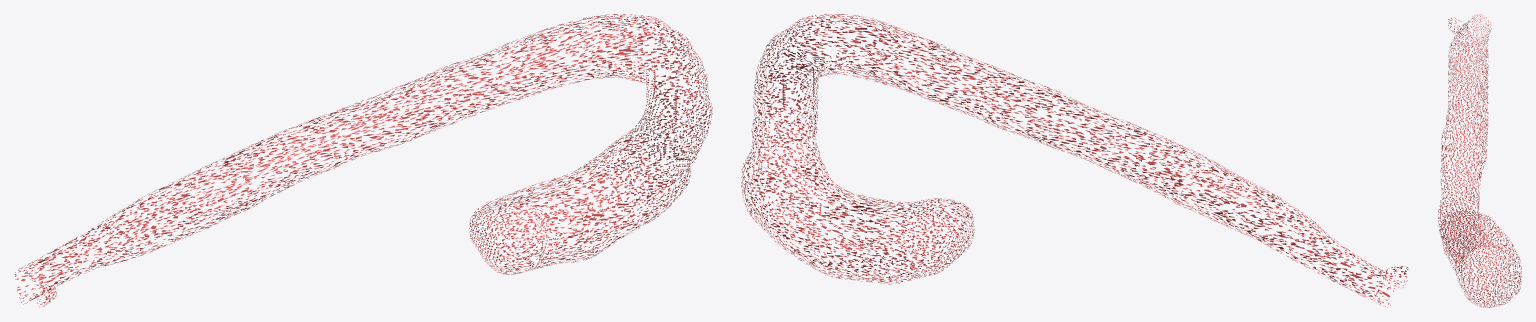
The model's file is aorta.glb.
3 renders of one model, left to right at view 1: azimuth 30°, elevation 25°; view 2: azimuth 150°, elevation 25°; view 3: azimuth 270°, elevation 25°, orthographic. The views are drawn at different scales.
Size of the model in its own units: 248 by 88.35 by 37.42.
